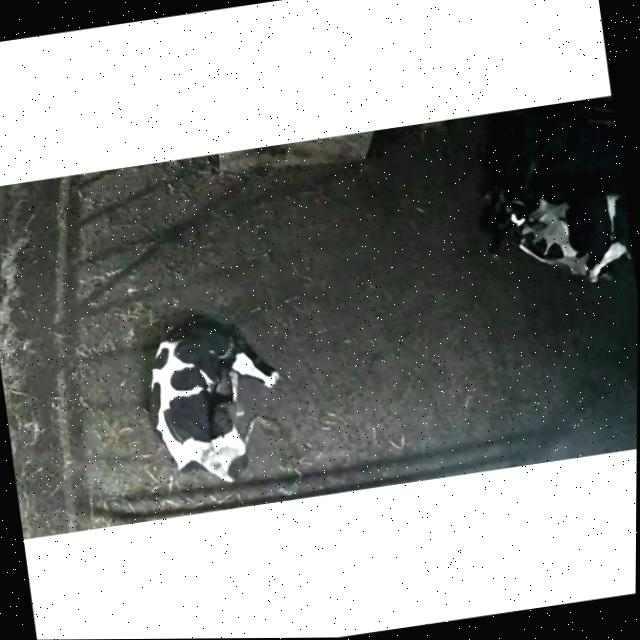lay: (102, 282, 299, 507)
